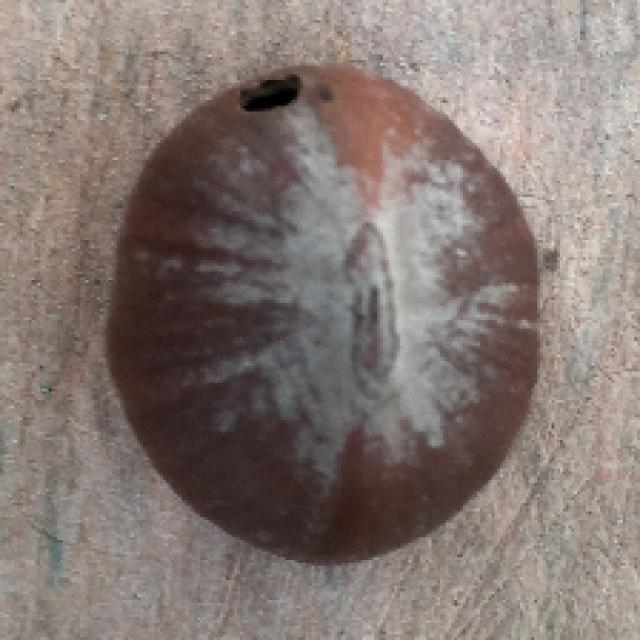DamagedHazelnut: (106, 59, 549, 568)
